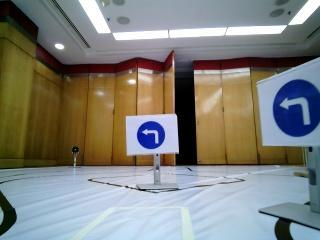left: (257, 80, 320, 143), (127, 118, 181, 154)
